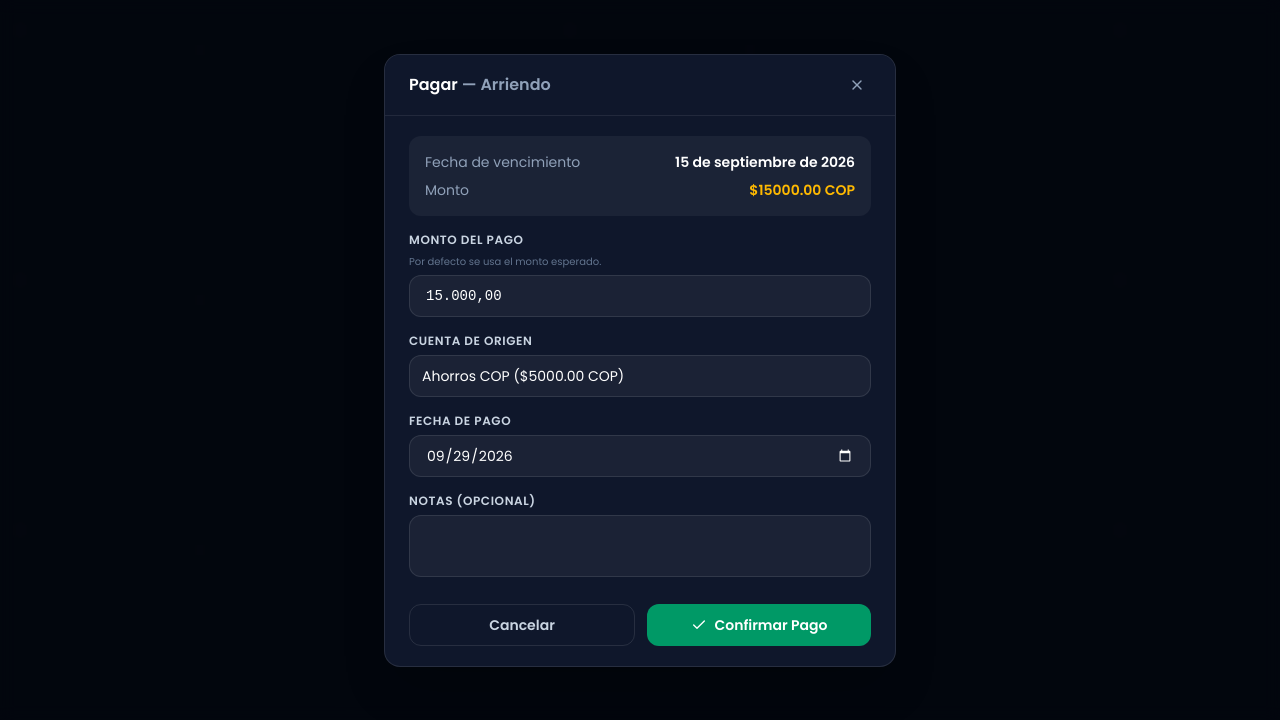
PayFixedExpenseModal › maps the already-paid backend code to a friendly alert
The image size is (1280, 720).
Check: the element that starts with "Pagar" is shown, box [384,54,896,666]
Click the submit button: (759, 624) [647,604,871,646]
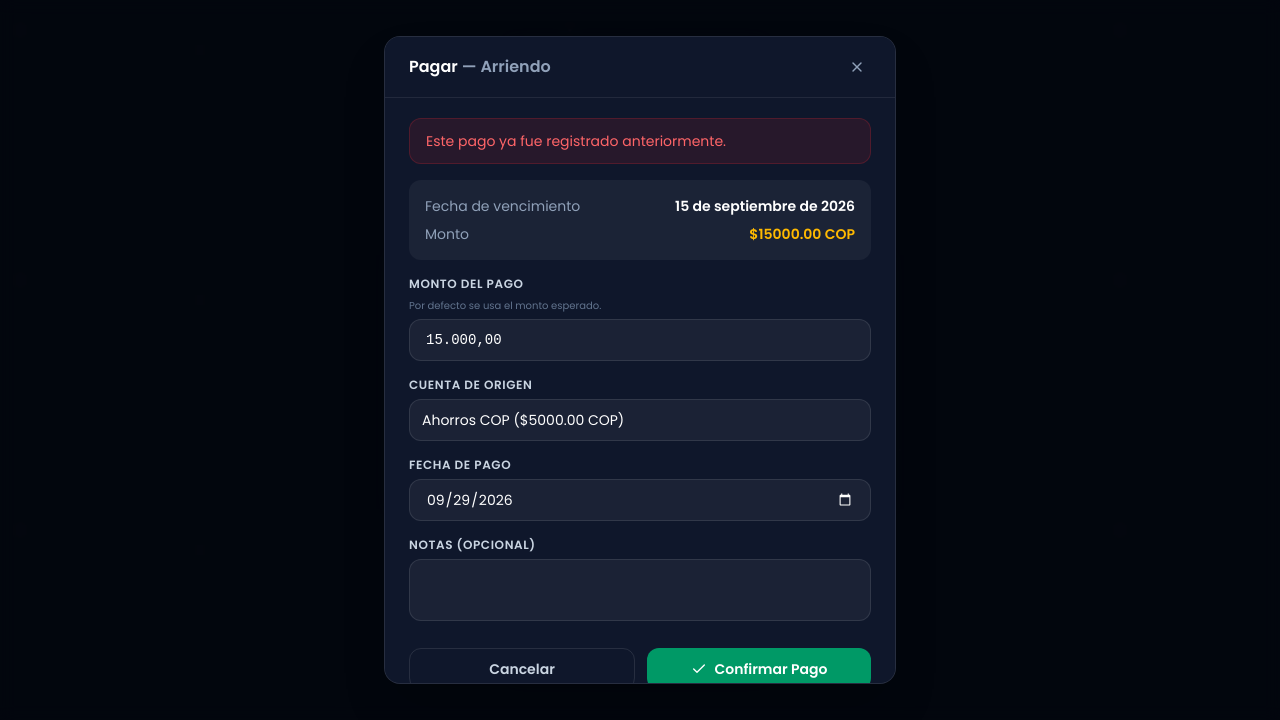
Check: the message reads "Este pago ya fue registrado anteriormente.", box [426,131,726,151]
